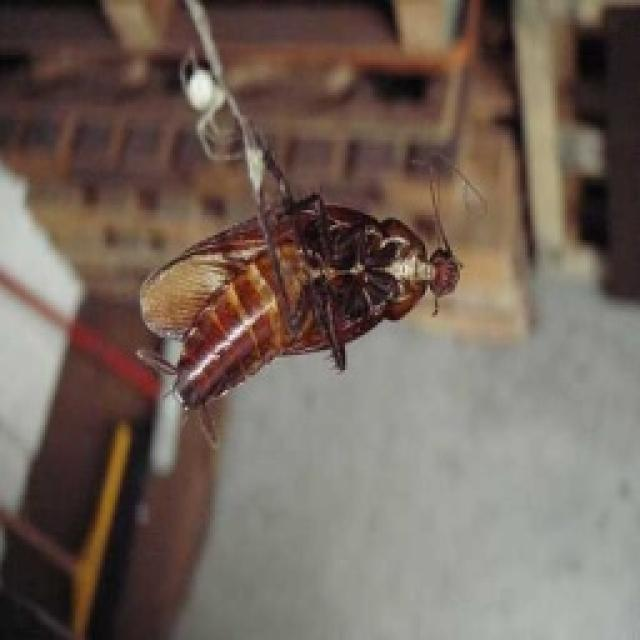cockroach: (121, 108, 507, 445)
